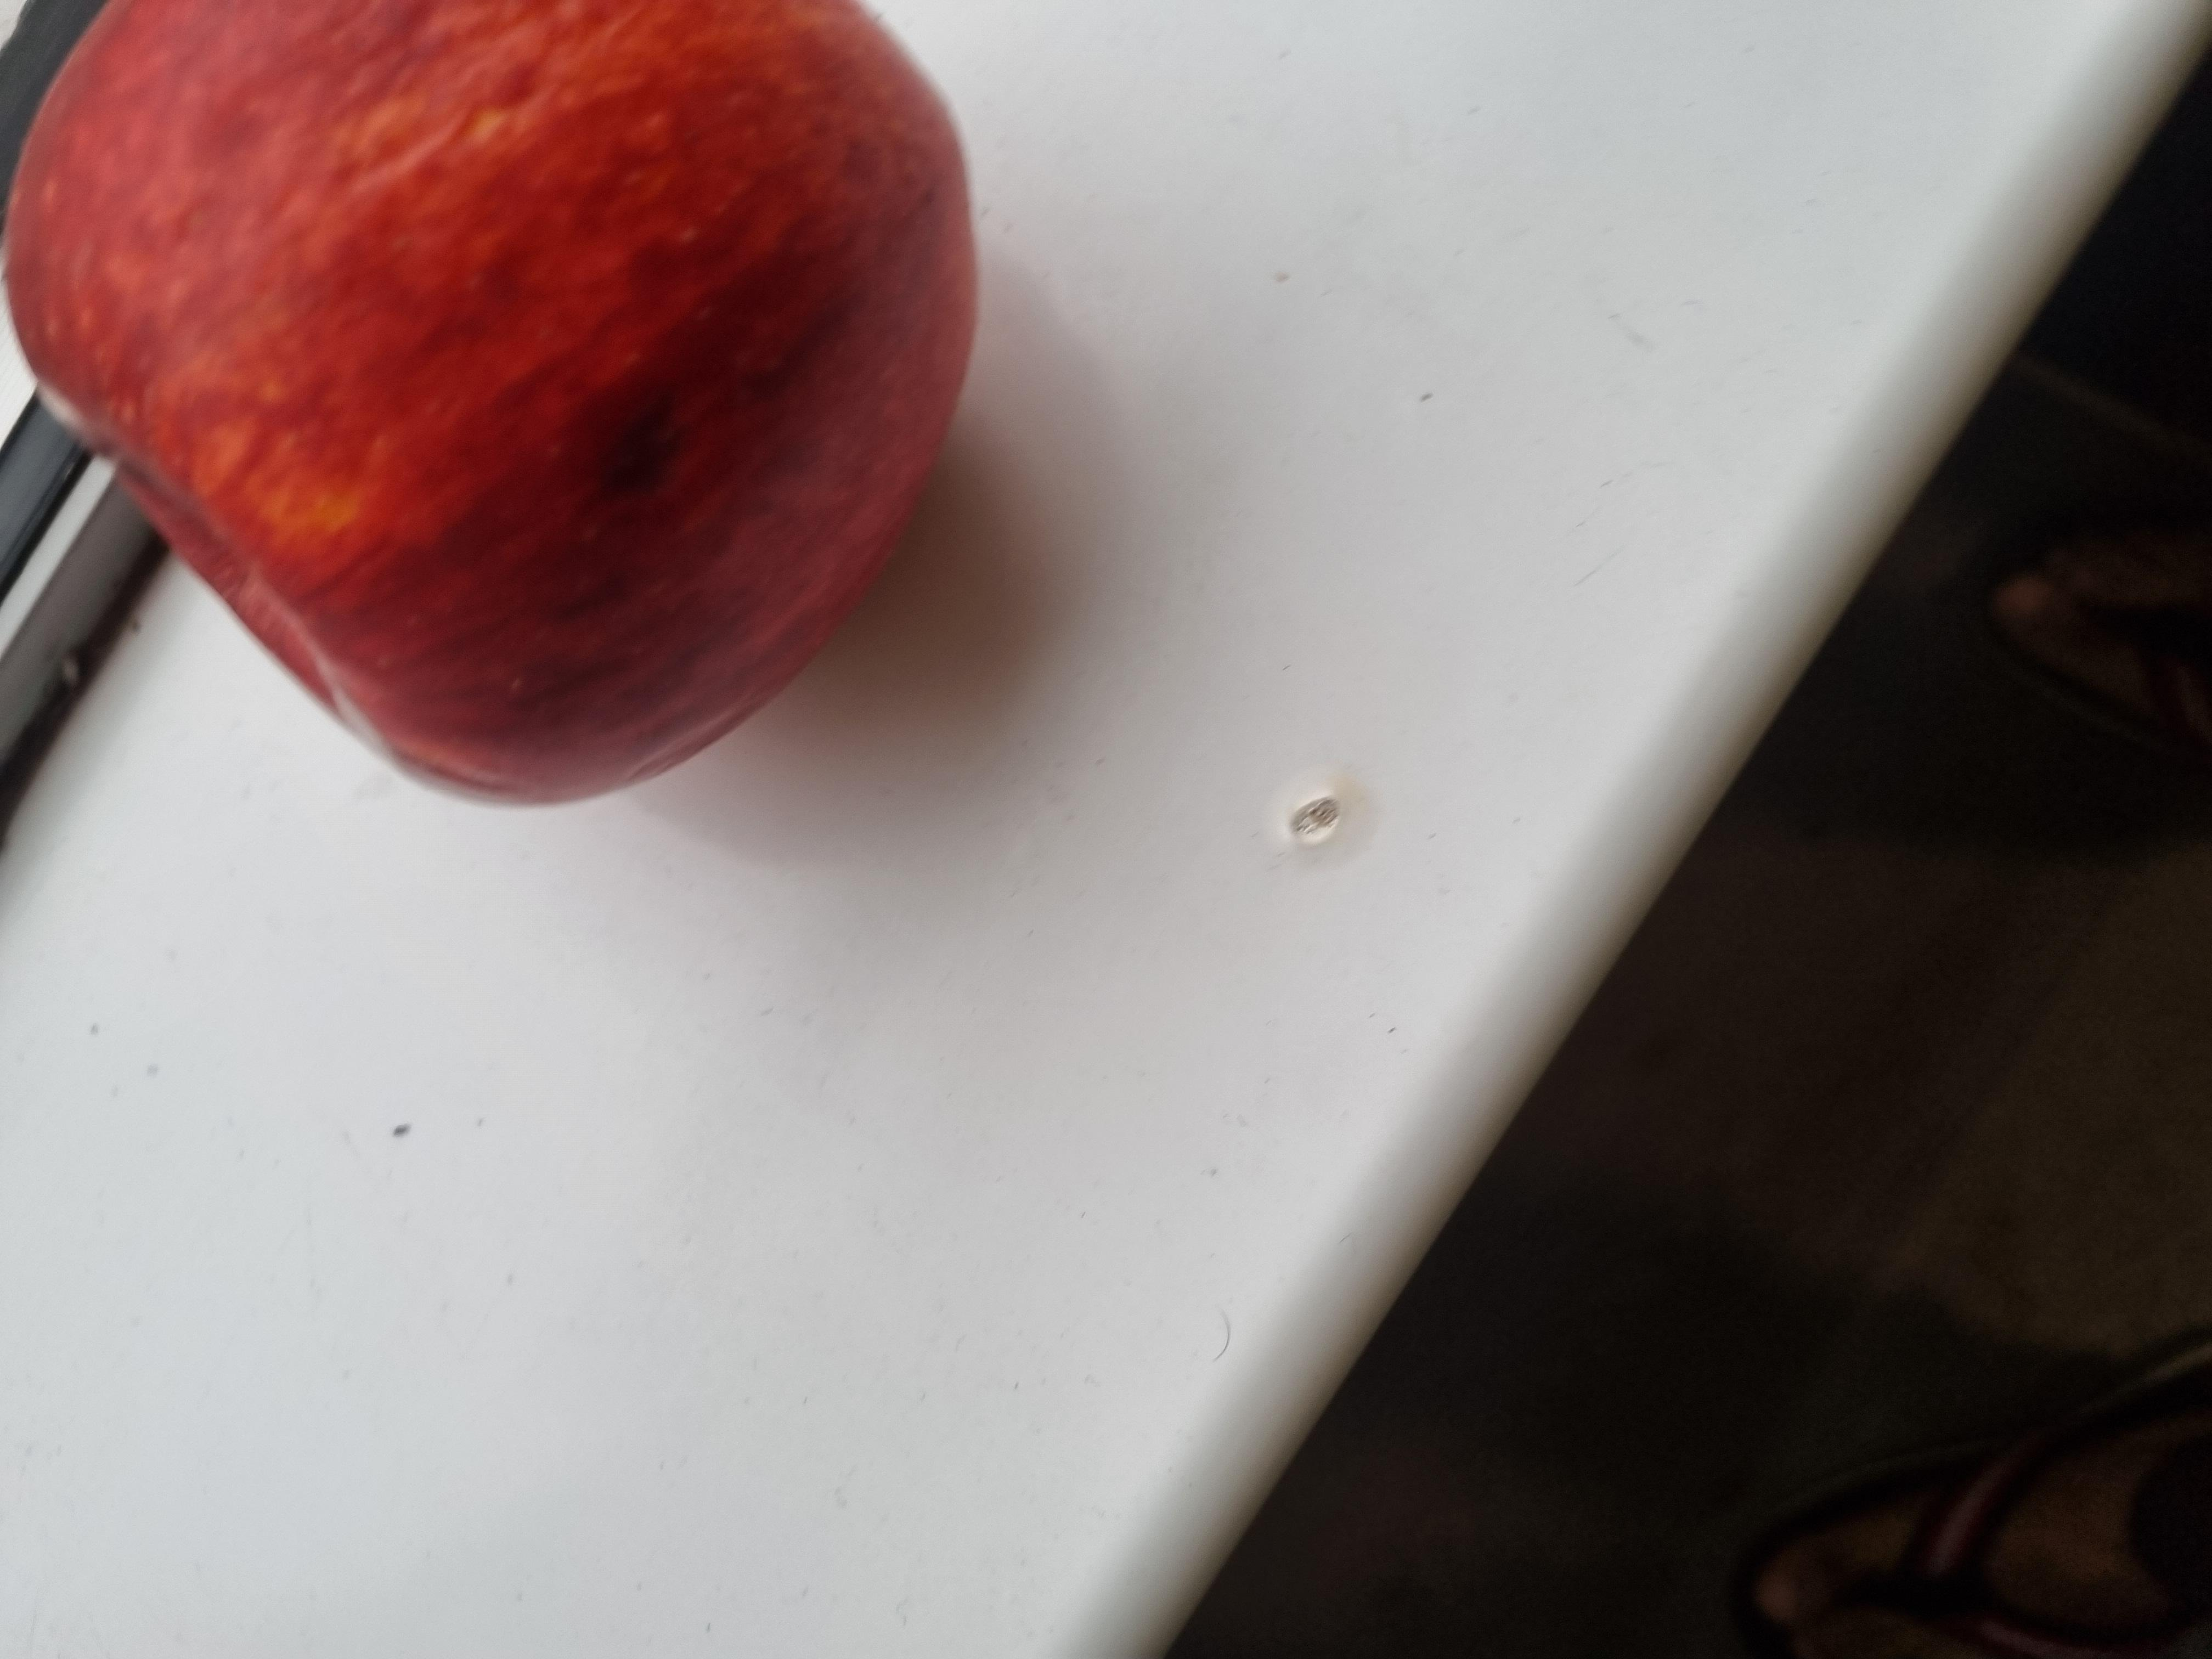Apple: (1219, 821, 2212, 1659)
